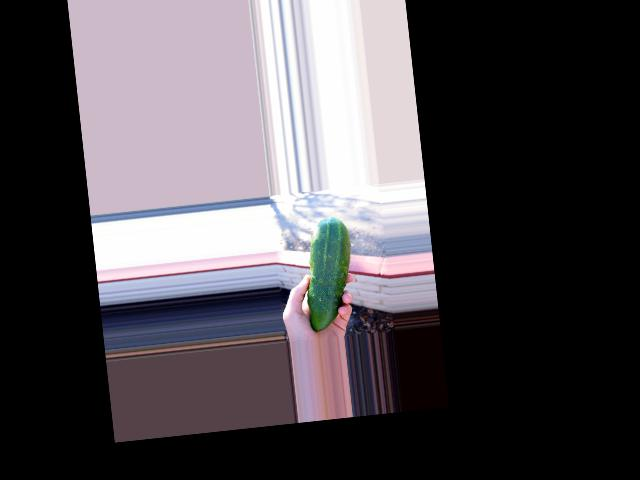cucumber: (299, 216, 360, 331)
